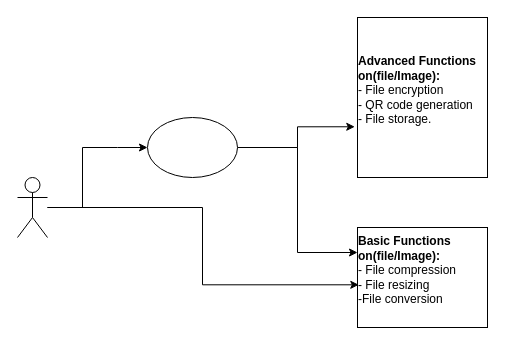
Some shapes in this 505 by 345 pixel diagram are drawn without their labels. Each missing label, with the centre of its shape:
Actor: the point at 32,207
Logged-in: the point at 192,147
